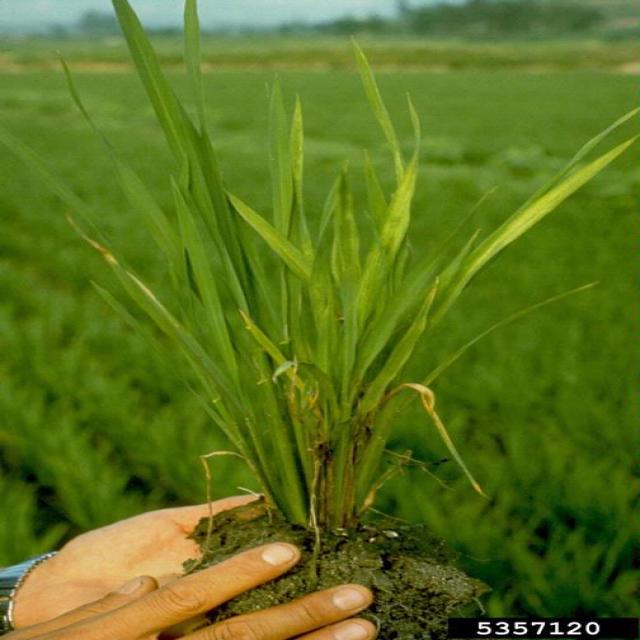Bacterial leaf blight: (215, 352, 493, 518)
